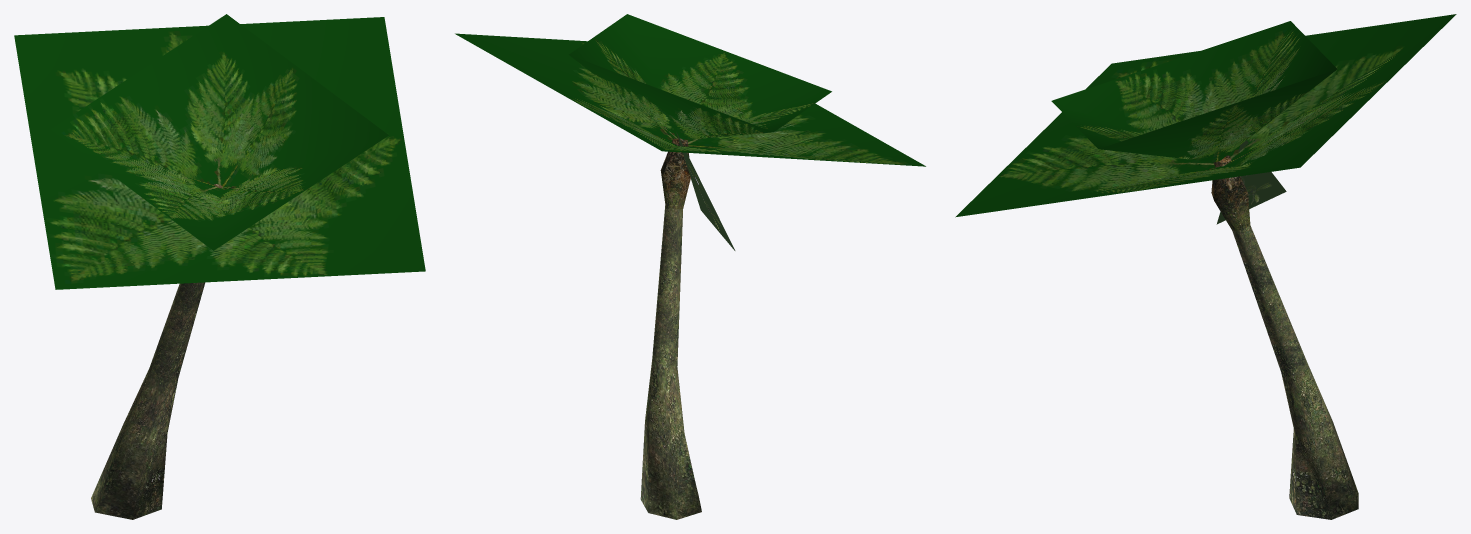
The model's file is fern_ferntree_l0.fbx.
3 renders of one model, left to right at view 1: azimuth 30°, elevation 25°; view 2: azimuth 150°, elevation 25°; view 3: azimuth 270°, elevation 25°, orthographic. The views are drawn at different scales.
Parts seen in each view (by area): view 1: mesh_node; view 2: mesh_node; view 3: mesh_node.
Boxes of the visible parts, bbox=[...] form: mesh_node: bbox=[14, 14, 425, 519]; mesh_node: bbox=[455, 14, 925, 519]; mesh_node: bbox=[955, 14, 1456, 519].
Size of the model in its own units: 2.58 by 2.72 by 2.52.
